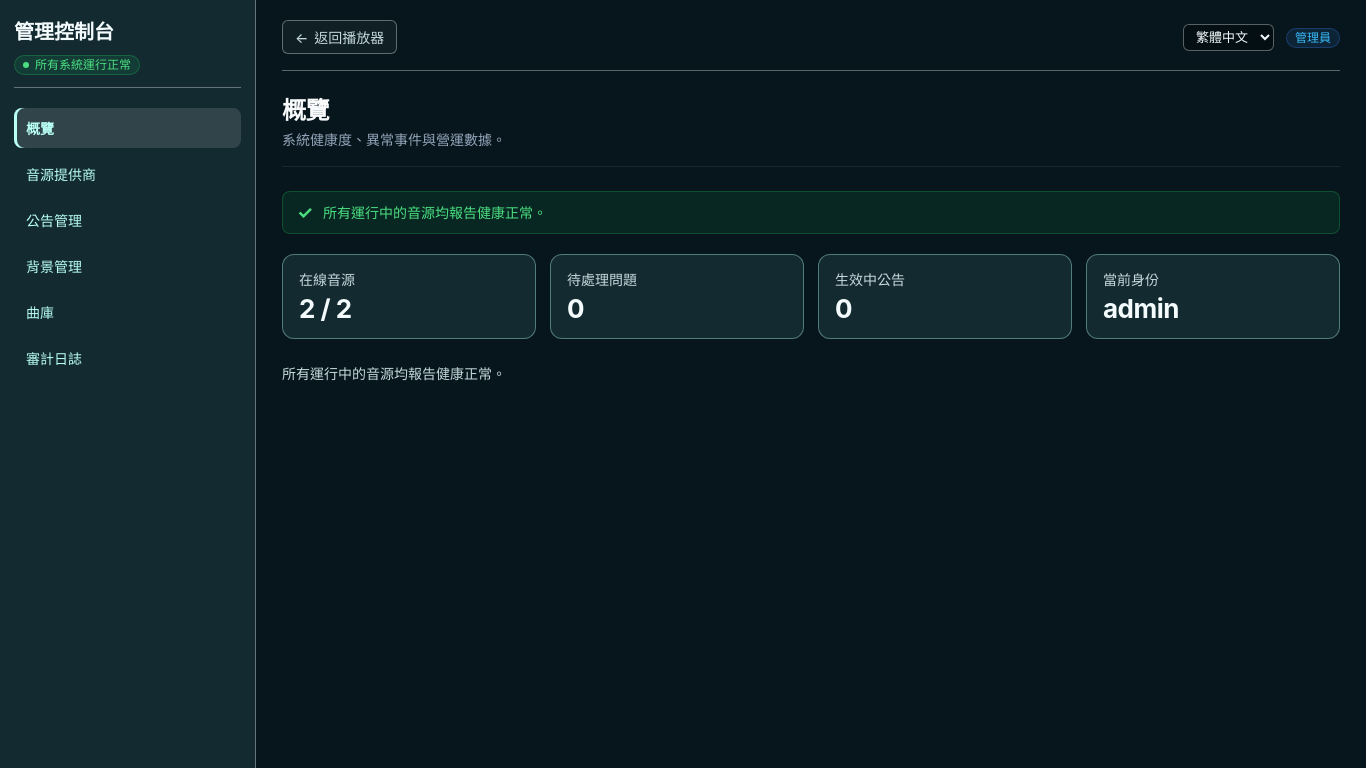
Test: AdminShell › restores authoritative provider state and shows a localised error after a failed save
Click the link "音源提供商".
click(61, 175)  # box x1=26 y1=166 x2=96 y2=183
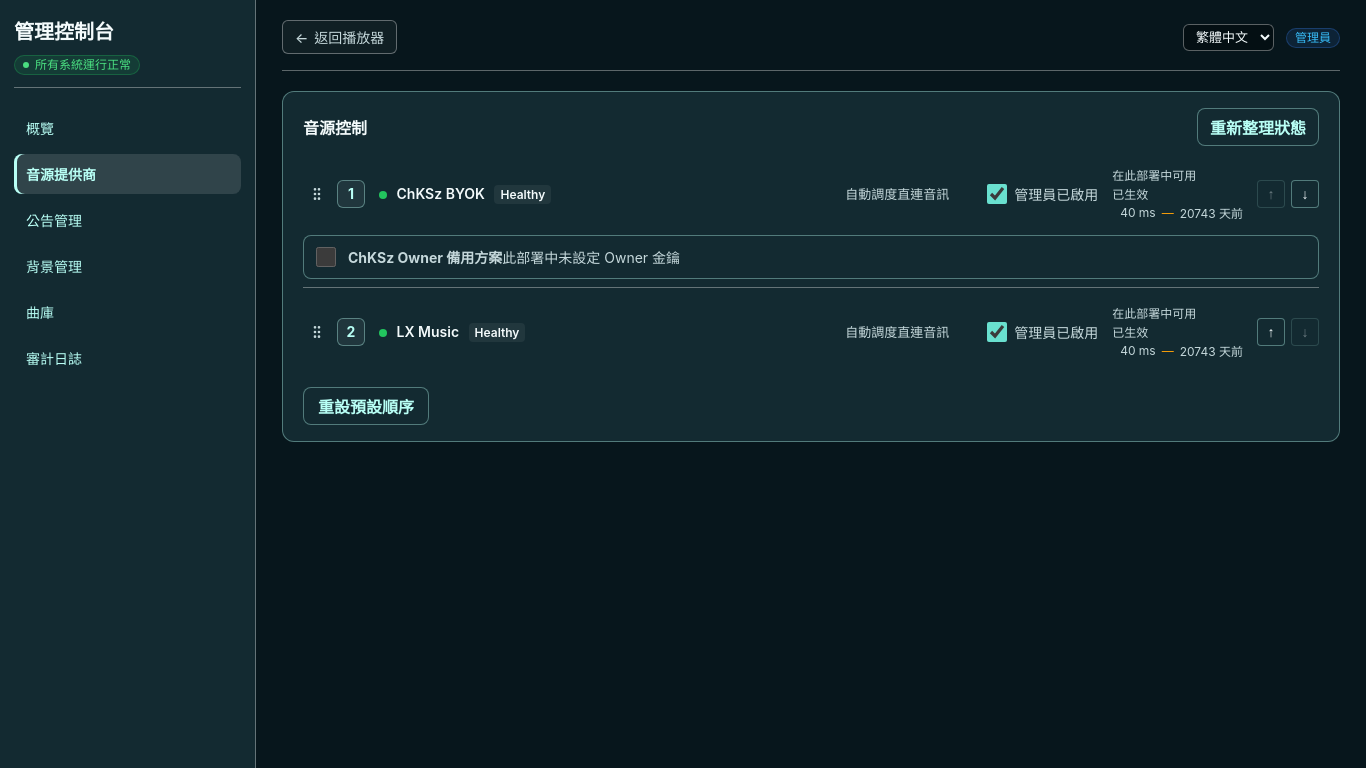
Click the checkbox labelled "管理員已啟用" in the row of "LX Music".
click(997, 332)  # box x1=987 y1=322 x2=1007 y2=342
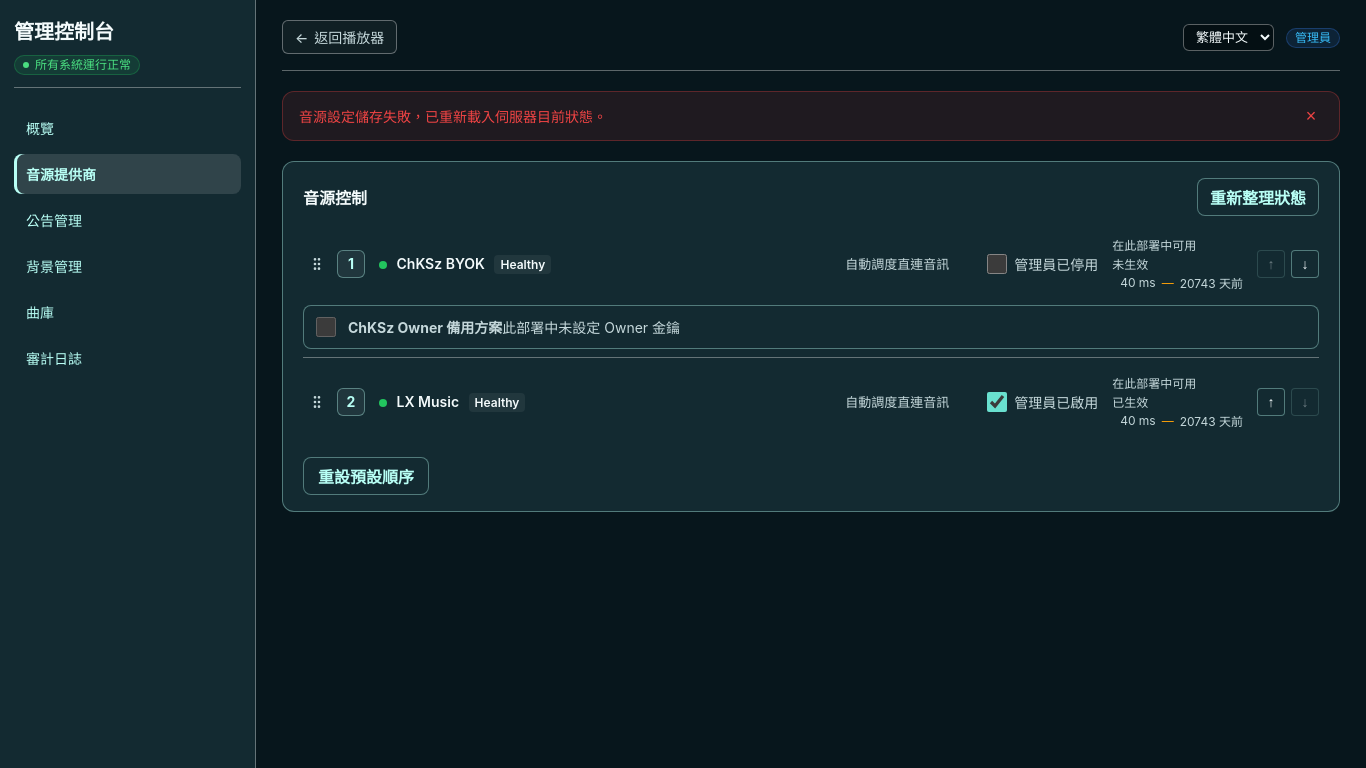
Check: the checkbox labelled "管理員已啟用" is checked, box x1=987 y1=392 x2=1007 y2=412
Check: the checkbox labelled "管理員已停用" is not checked, box x1=987 y1=254 x2=1007 y2=274
Check: the message "音源設定儲存失敗，已重新載入伺服器目前狀態。 ×" is shown, box x1=282 y1=91 x2=1340 y2=141
